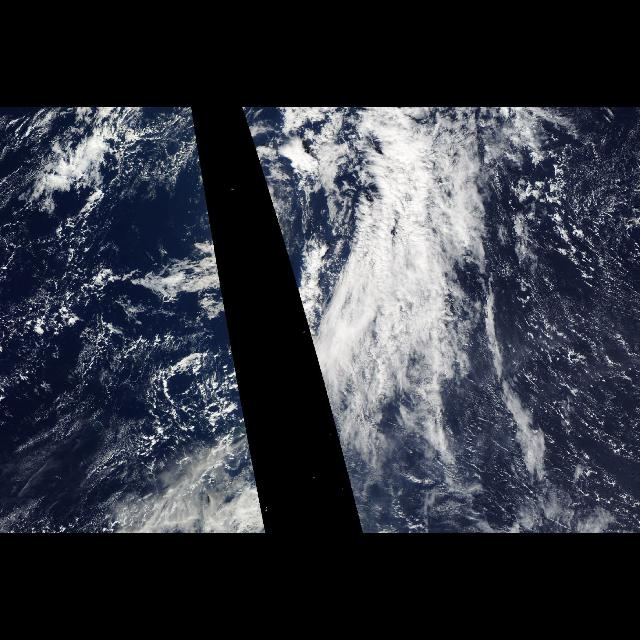Gravel: (0, 198, 244, 474)
Sugar: (0, 421, 140, 534)
